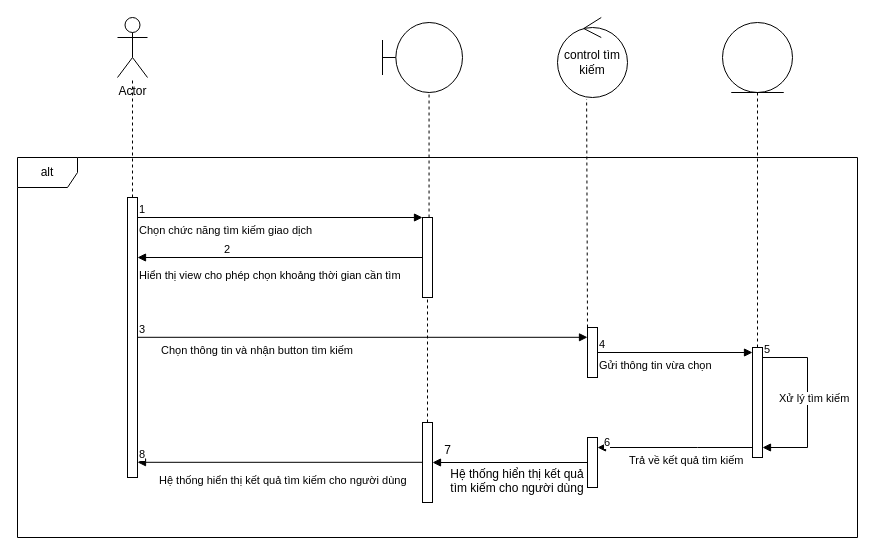
Image size: 875x555. Some labels were removed from this diagram. Here are the shapes that lost their labels. From the top down, the centre of each, then its label:
At pixel 422 57: "View tìm kiếm".
At pixel 757 57: "CSDL Firebase".
